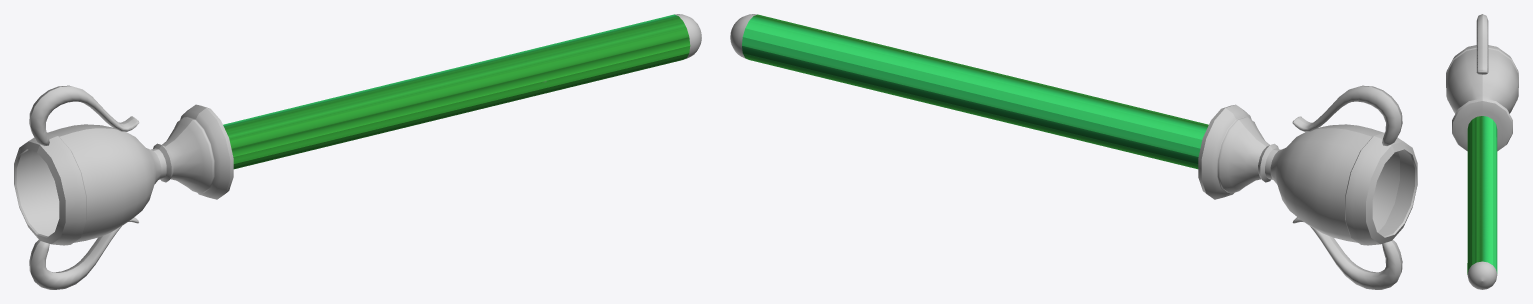
The model's file is 57_Pin_Trophy.fbx.
3 renders of one model, left to right at view 1: azimuth 30°, elevation 25°; view 2: azimuth 150°, elevation 25°; view 3: azimuth 270°, elevation 25°, orthographic. The views are drawn at different scales.
Visible parts, largest first — view 1: Pin_Trophy_head, Pin_Trophy_body, Pin_Trophy_tail; view 2: Pin_Trophy_head, Pin_Trophy_body, Pin_Trophy_tail; view 3: Pin_Trophy_head, Pin_Trophy_body, Pin_Trophy_tail.
Boxes of the visible parts, x1,y1,x2,y2 form: Pin_Trophy_head: (14, 85, 233, 289); Pin_Trophy_body: (223, 14, 690, 169); Pin_Trophy_tail: (674, 14, 701, 59); Pin_Trophy_head: (1198, 85, 1417, 289); Pin_Trophy_body: (742, 14, 1208, 169); Pin_Trophy_tail: (730, 14, 757, 59); Pin_Trophy_head: (1446, 14, 1518, 151); Pin_Trophy_body: (1467, 116, 1497, 274); Pin_Trophy_tail: (1467, 261, 1497, 289).
Size of the model in its own units: 4.19 by 1.21 by 0.6157.
